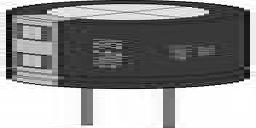Electrolytic-Capacitor: (6, 3, 252, 128)
